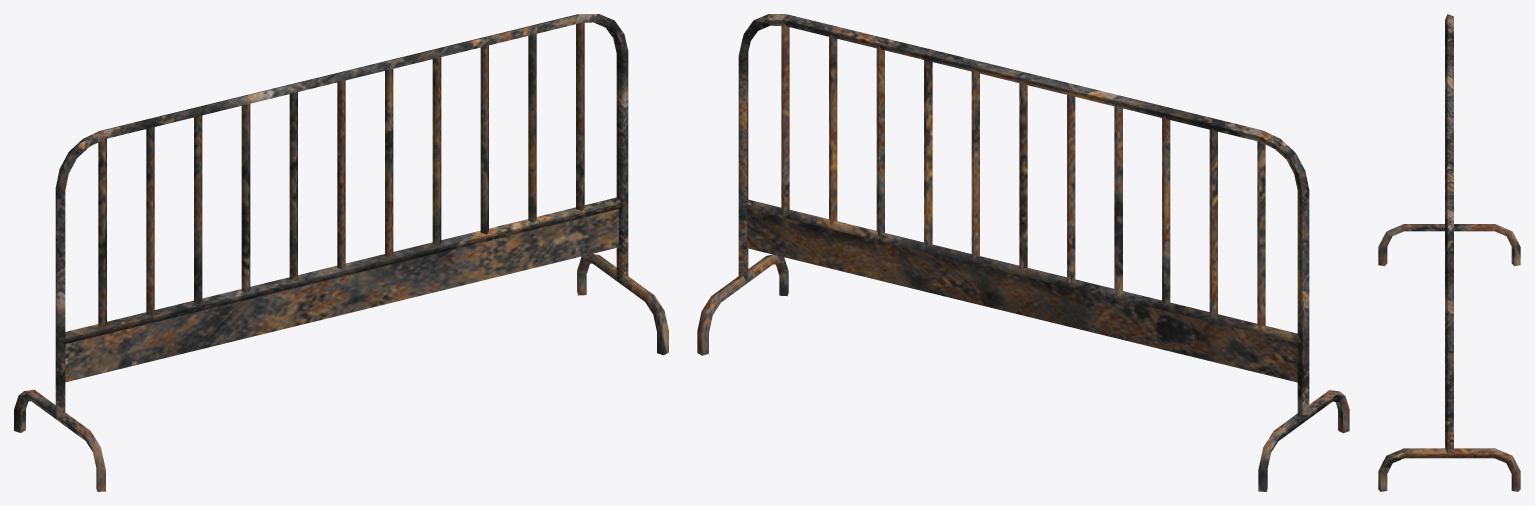
Rendered from road_bar2_LOD1.fbx.
3 renders of one model, left to right at view 1: azimuth 30°, elevation 25°; view 2: azimuth 150°, elevation 25°; view 3: azimuth 270°, elevation 25°, orthographic. The views are drawn at different scales.
Parts seen in each view (by area): view 1: default02; view 2: default02; view 3: default02.
Part boxes in pixels (x1,y1,x2,y2): default02: (14, 14, 668, 491); default02: (697, 14, 1349, 491); default02: (1378, 14, 1520, 491).
Bounding box in the file's own units: 2.36 × 1.26 × 0.6185.
